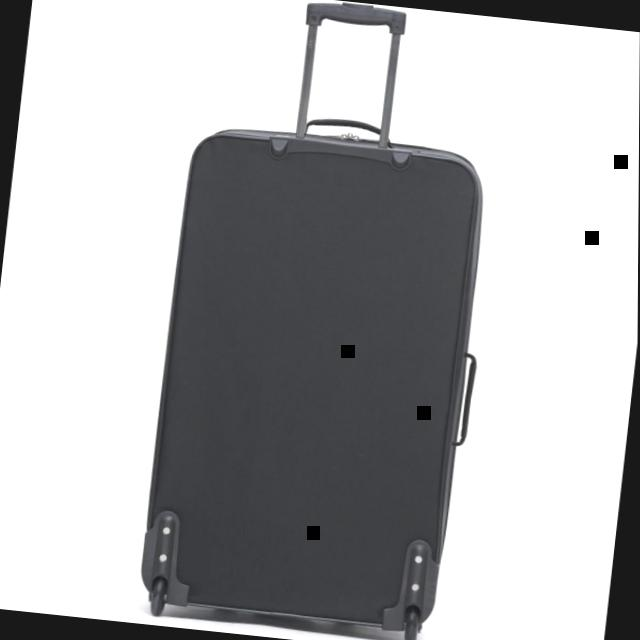luggage: (133, 112, 496, 640)
